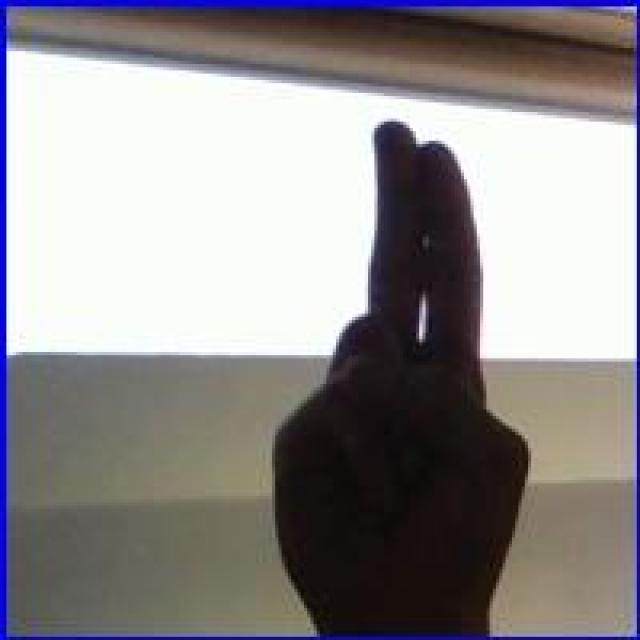U: (264, 115, 539, 618)
